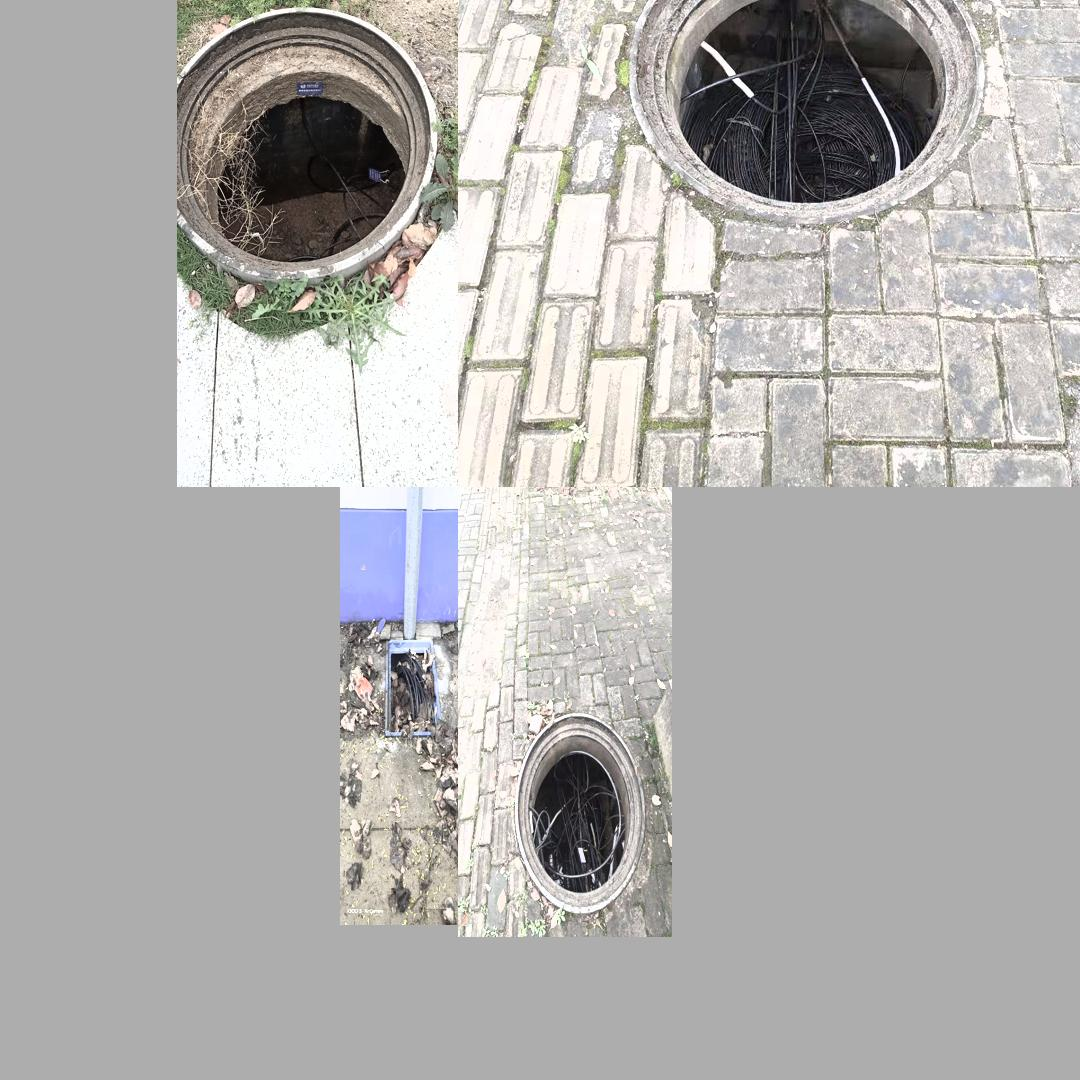lose: (631, 0, 985, 230), (179, 6, 440, 287), (515, 712, 645, 916), (381, 635, 441, 738)
